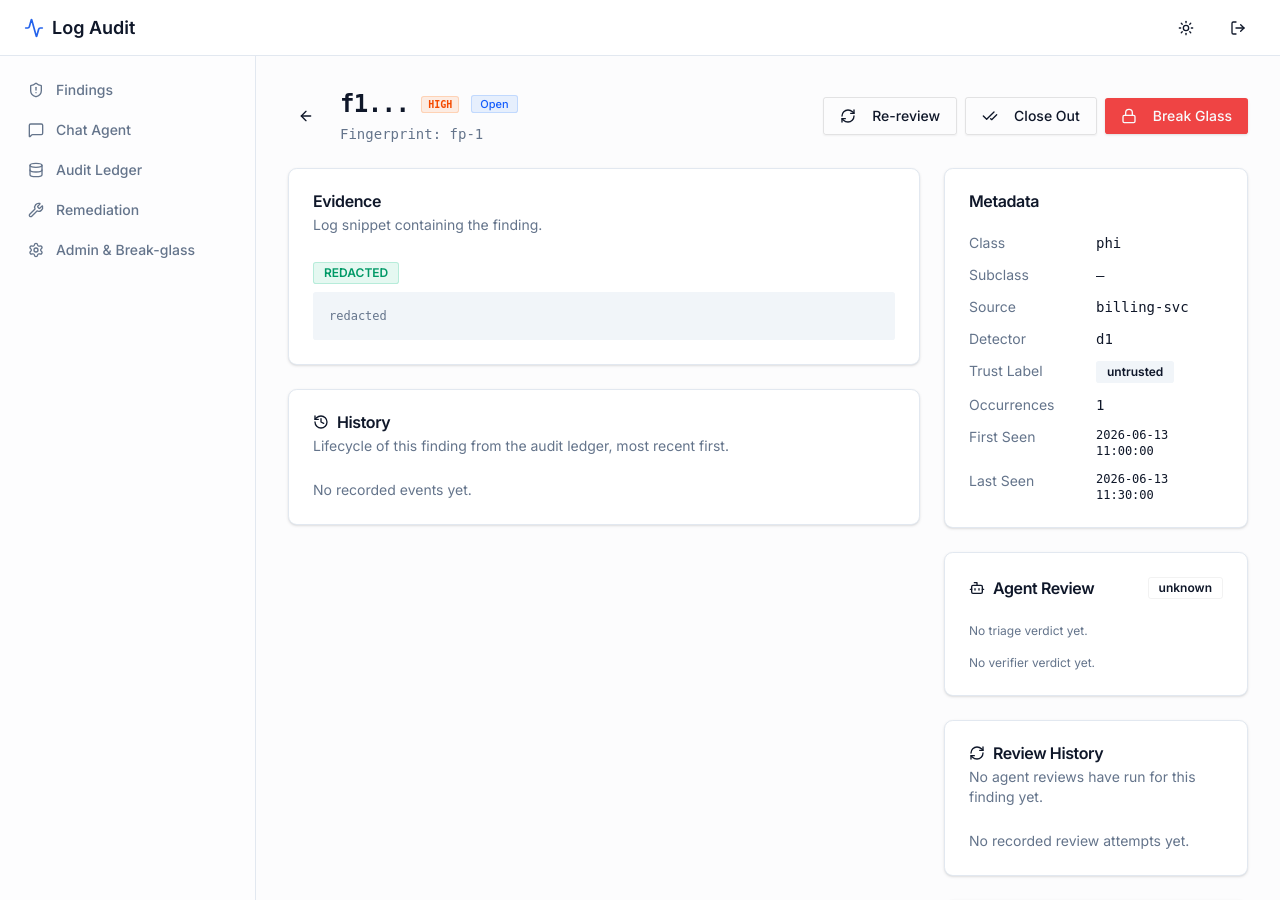
Test: FindingDetail emergency access countdown › shows an expired state once the countdown reaches zero
The width and height of the screenshot is (1280, 900).
Step 1. Click the button "Break Glass" → point(1176, 116), box 1105,98 -> 1248,134
Wait 4000 ms
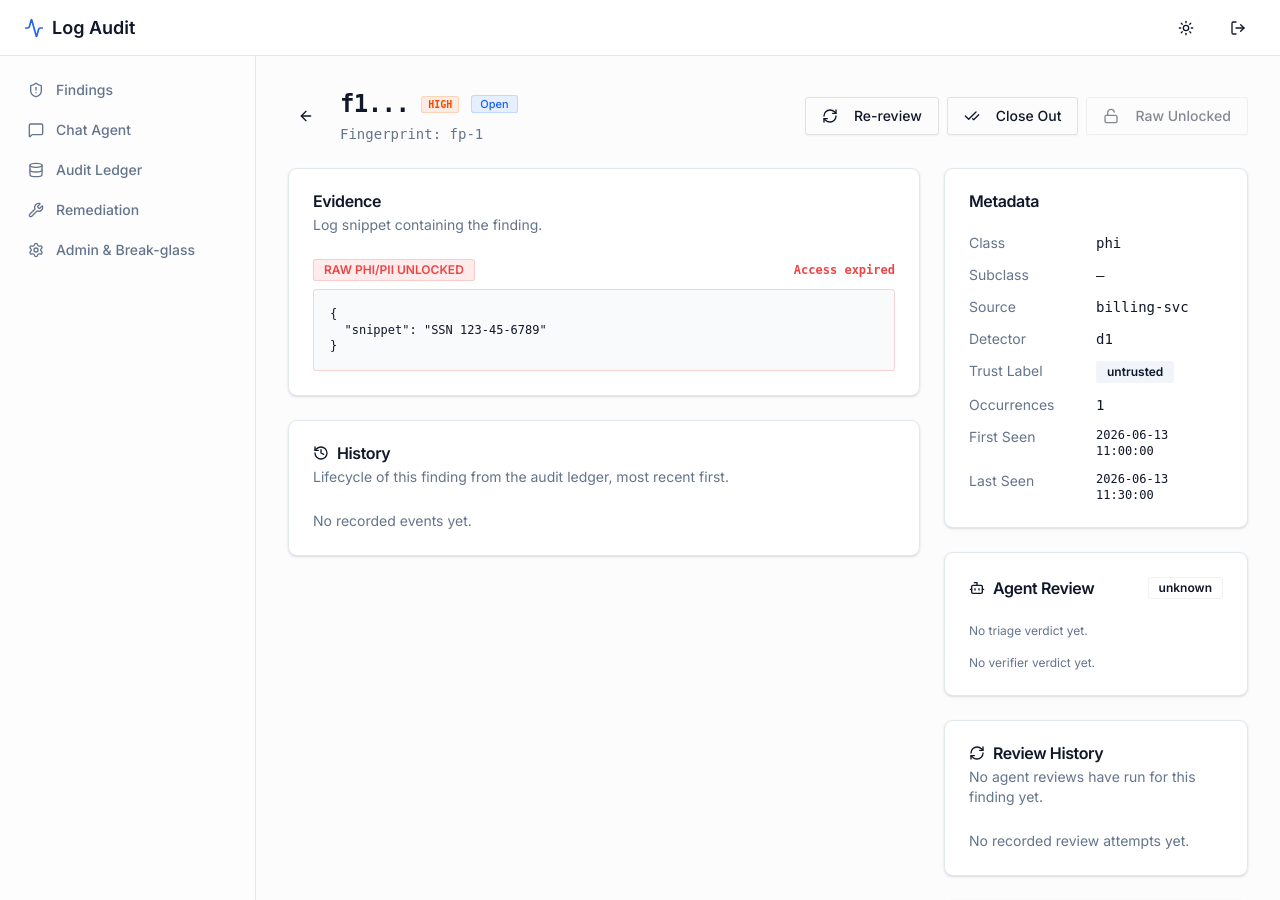
Now the text "Access expired" is shown, box 794,262 -> 895,278
